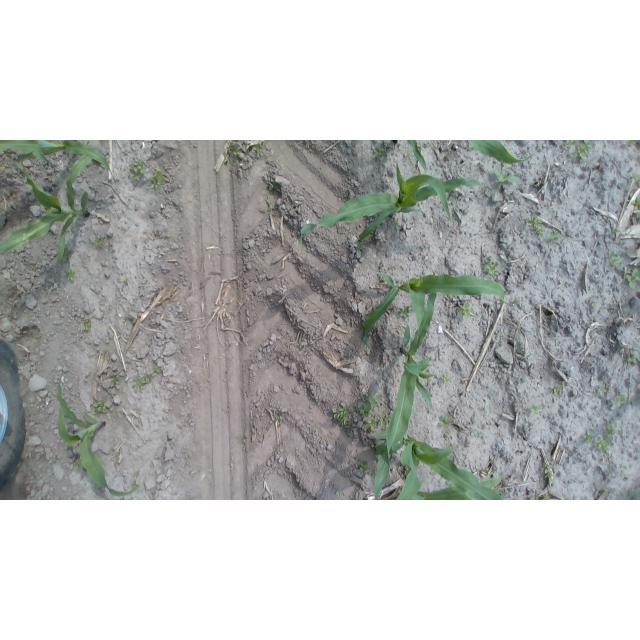Maize: (295, 162, 493, 256), (375, 268, 440, 500), (363, 271, 508, 354), (0, 152, 100, 264), (54, 375, 143, 498), (374, 432, 510, 500), (1, 140, 120, 184), (403, 140, 538, 166), (415, 477, 507, 500)
Weeds: (132, 366, 162, 393), (355, 392, 381, 416), (524, 214, 546, 238), (479, 258, 503, 279), (492, 168, 516, 189), (366, 143, 390, 163), (331, 404, 353, 424), (128, 159, 147, 181), (605, 250, 623, 271), (150, 170, 168, 190), (578, 141, 595, 160), (547, 230, 566, 246), (625, 268, 640, 288), (265, 180, 283, 196), (541, 463, 555, 483), (596, 436, 612, 453), (439, 413, 457, 427), (606, 421, 620, 439), (106, 370, 119, 389), (611, 393, 627, 408), (630, 196, 640, 220), (249, 142, 264, 157), (94, 235, 109, 250), (459, 303, 473, 318), (355, 461, 371, 474), (344, 423, 358, 437), (375, 413, 389, 427), (93, 401, 107, 415), (365, 417, 377, 433), (529, 493, 556, 500), (265, 199, 278, 213), (80, 320, 93, 333), (299, 345, 311, 359), (626, 354, 640, 366), (398, 305, 410, 319), (582, 430, 594, 443), (595, 384, 607, 397), (529, 405, 543, 416), (230, 144, 241, 158), (65, 269, 75, 284), (498, 489, 513, 499), (625, 490, 640, 500), (553, 384, 565, 396), (357, 240, 368, 253), (236, 435, 248, 446), (440, 373, 451, 385), (630, 174, 640, 187), (485, 466, 494, 478), (610, 228, 622, 237), (274, 412, 282, 424), (443, 431, 452, 440), (112, 413, 122, 421), (513, 298, 522, 306), (590, 301, 598, 310), (336, 491, 345, 498), (475, 431, 485, 437), (564, 140, 574, 146), (122, 278, 129, 286), (133, 471, 140, 479), (629, 140, 640, 145)
